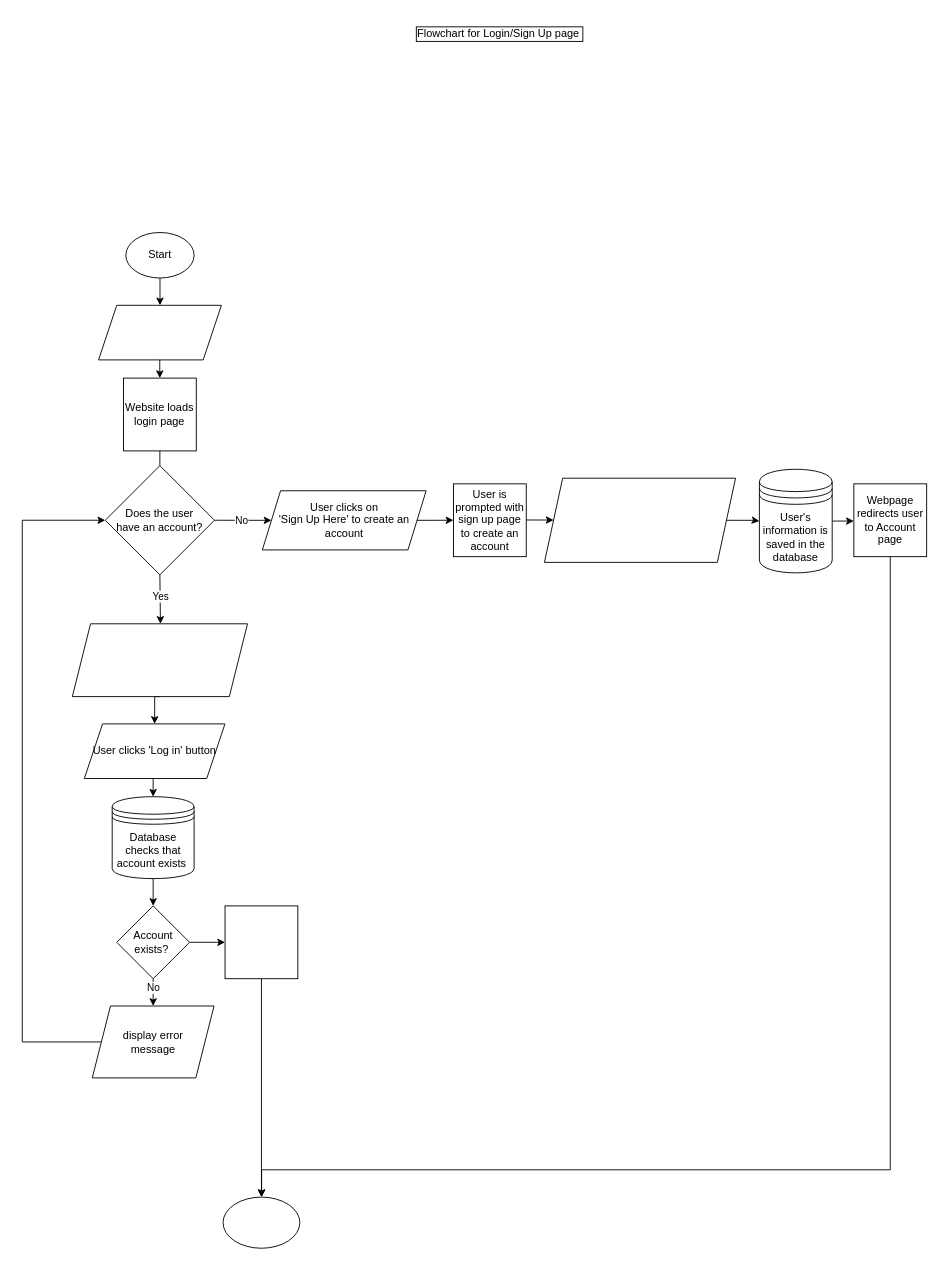
This 943x1264 diagram has some shape labels left out. Here are the shapes that lost their labels. From the top down, the centre of each, then its label:
the point at 159,332: User clicks on 'Login' button
the point at 640,519: User fills in the required fields and clicks 'Sign Up' when done
the point at 159,660: User inputs email address and password
the point at 261,942: Webpage redirects user to home page
the point at 261,1222: End
